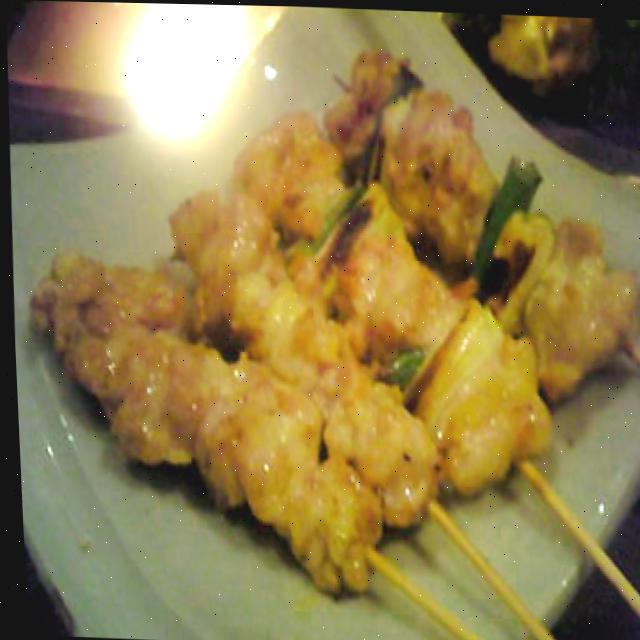烧串烤肉: (7, 122, 640, 640)
